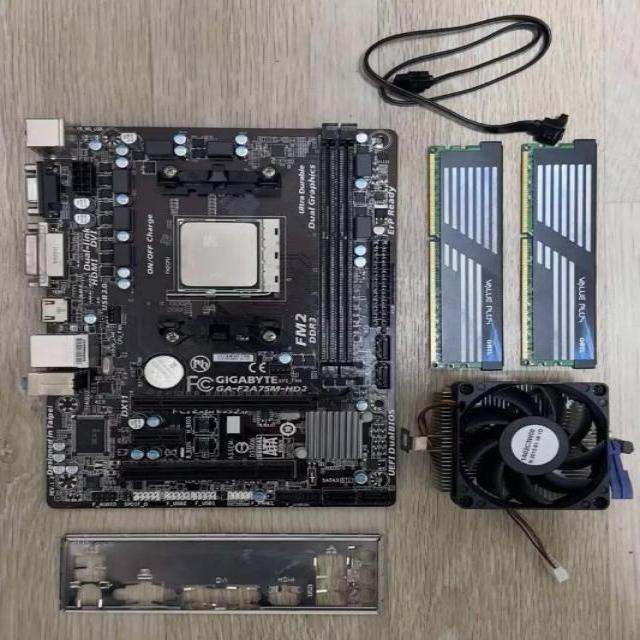CPU: (180, 222, 258, 288)
CPU_Fan: (452, 382, 612, 511)
RAM: (522, 143, 597, 367), (429, 144, 503, 368)
